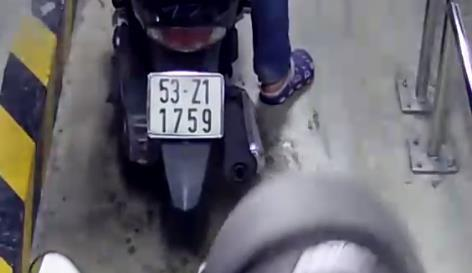lisence: (147, 71, 227, 139)
